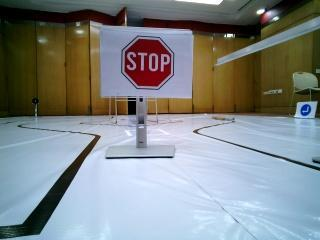stop: (99, 27, 189, 98)
